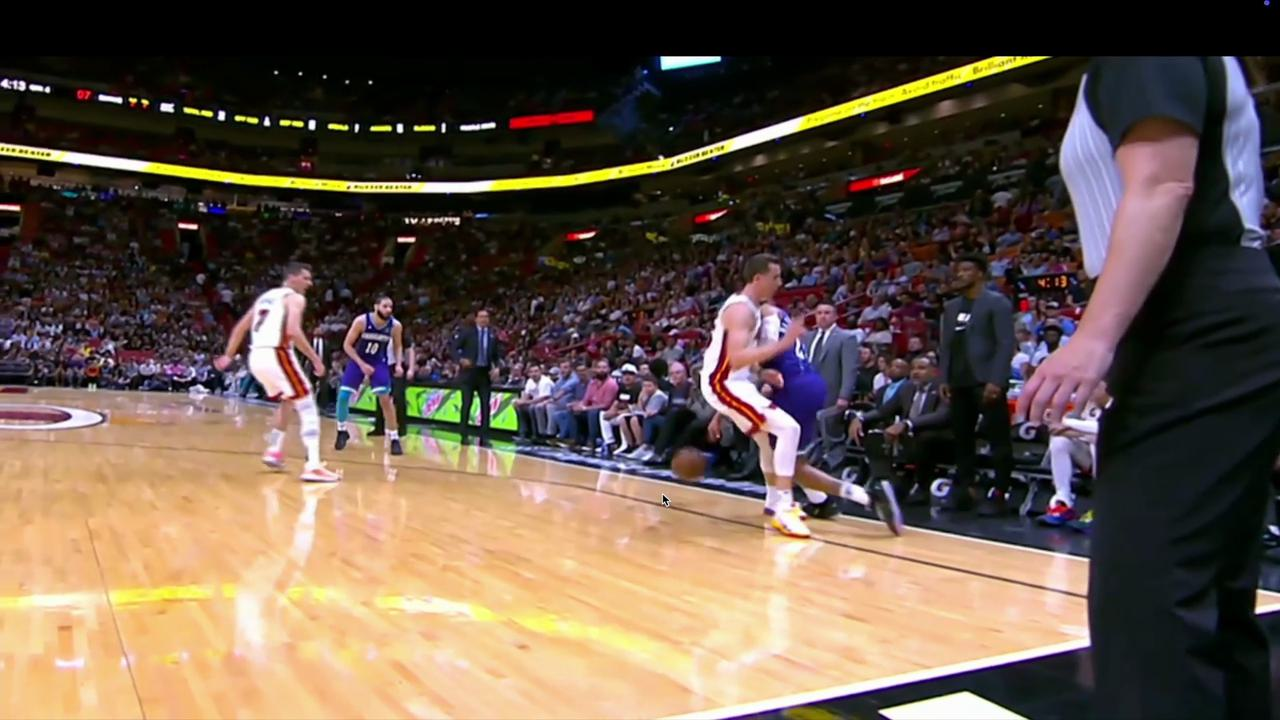Foul_moment: (718, 296, 806, 416)
Player: (707, 245, 798, 532), (233, 254, 329, 484), (738, 302, 817, 483), (349, 285, 396, 455)
